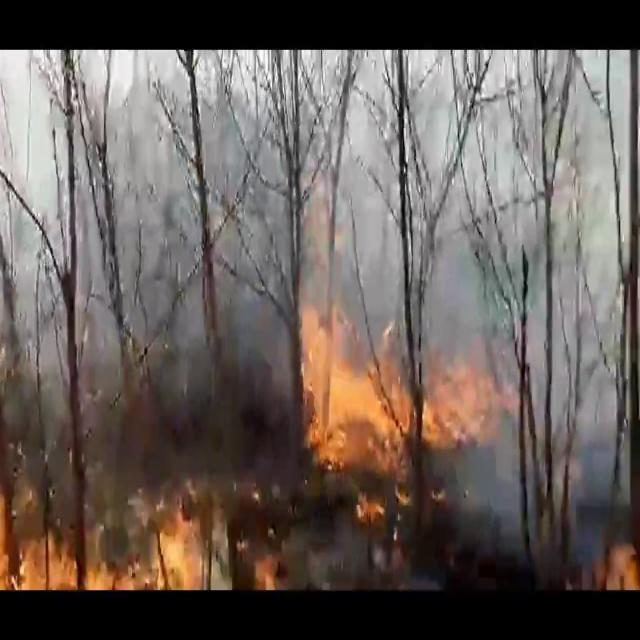Fire: (281, 199, 494, 503), (0, 496, 298, 585)
Smoke: (1, 51, 288, 494)
